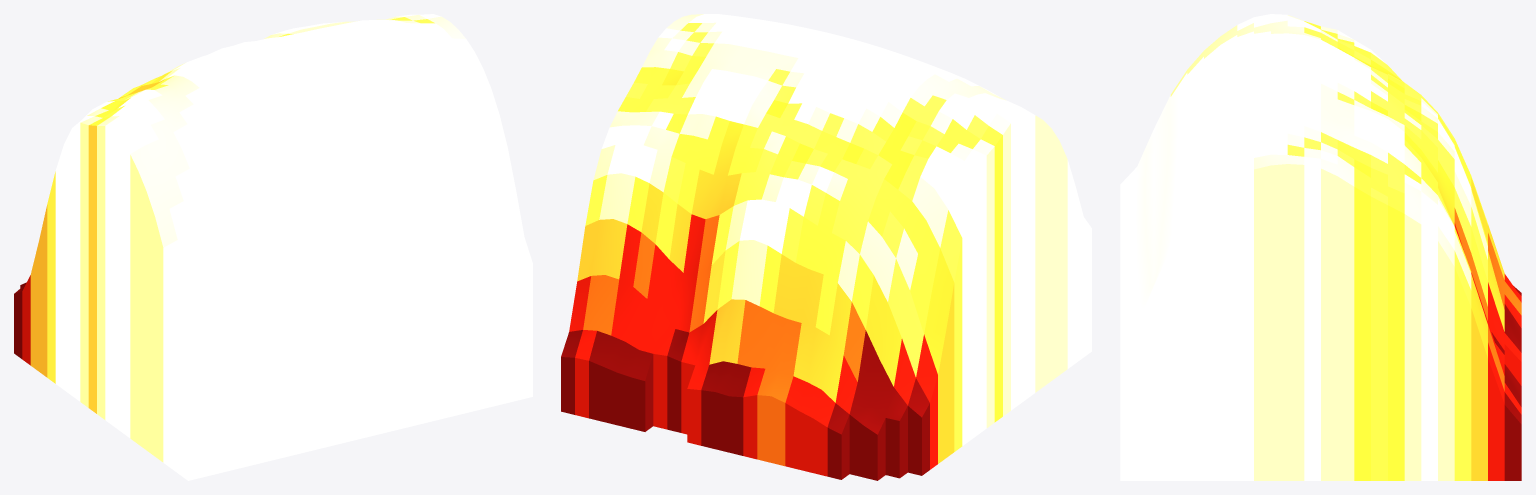
The model's file is newshk-15.glb.
3 renders of one model, left to right at view 1: azimuth 30°, elevation 25°; view 2: azimuth 150°, elevation 25°; view 3: azimuth 270°, elevation 25°, orthographic. The views are drawn at different scales.
Visible parts, largest first — view 1: newshk-15; view 2: newshk-15; view 3: newshk-15.
Boxes of the visible parts, x1=… form: newshk-15: x1=14, y1=14, x2=532, y2=480; newshk-15: x1=561, y1=14, x2=1091, y2=480; newshk-15: x1=1120, y1=14, x2=1521, y2=480.
Size of the model in its own units: 2 by 1.83 by 2.
